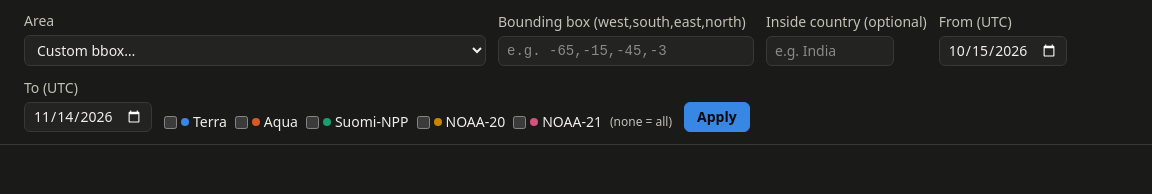
AreaBar › rejects an invalid bbox with a visible reason
Type "0,10,5,5" into the field labelled "Bounding box" at (626, 51), box [498,36,754,66]
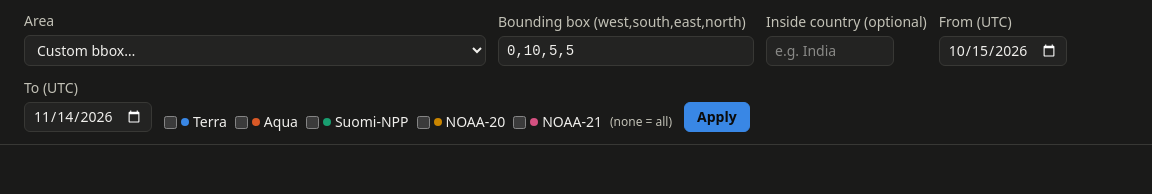
Click the button "Apply" at (717, 117), box [684,102,750,132]
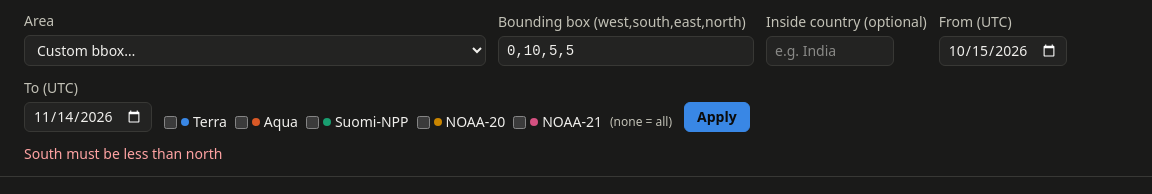
Expected: the message reads "South must be less than north", [24,144,222,163]
